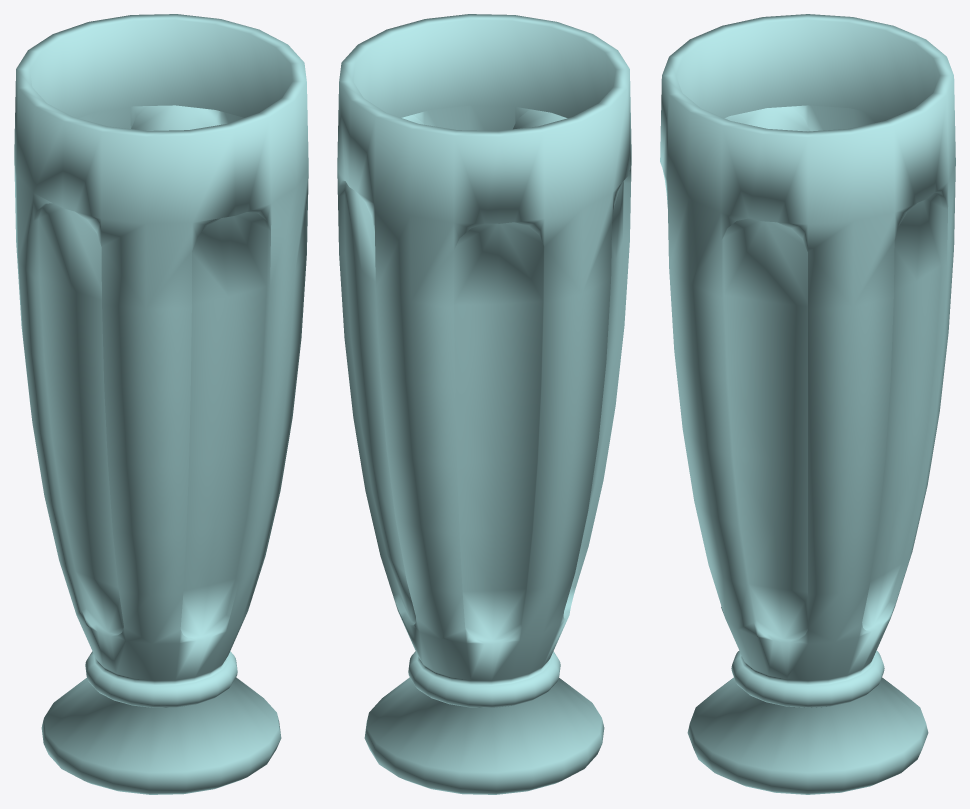
The model's file is SmoothieGlassFull.fbx.
The picture shows the model from 3 angles, left to right: view 1: azimuth 30°, elevation 25°; view 2: azimuth 150°, elevation 25°; view 3: azimuth 270°, elevation 25°; orthographic projection.
Parts seen in each view (by area): view 1: polySurface36; view 2: polySurface36; view 3: polySurface36.
Boxes of the visible parts, left/top/right/bottom form: polySurface36: left=14, top=14, right=308, bottom=794; polySurface36: left=337, top=14, right=631, bottom=794; polySurface36: left=660, top=14, right=955, bottom=794.
Size of the model in its own units: 2 by 5.03 by 2.
